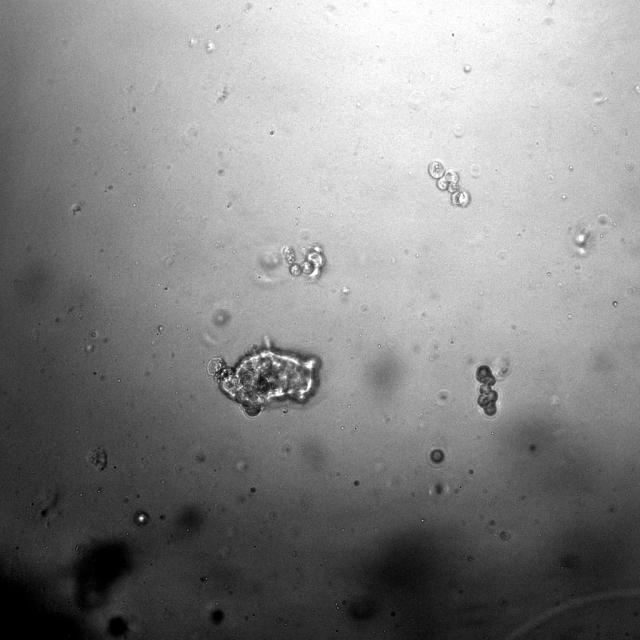organoid: (208, 341, 320, 416), (428, 160, 470, 207), (282, 245, 324, 276), (474, 364, 498, 416), (88, 446, 108, 471), (430, 449, 444, 463)
